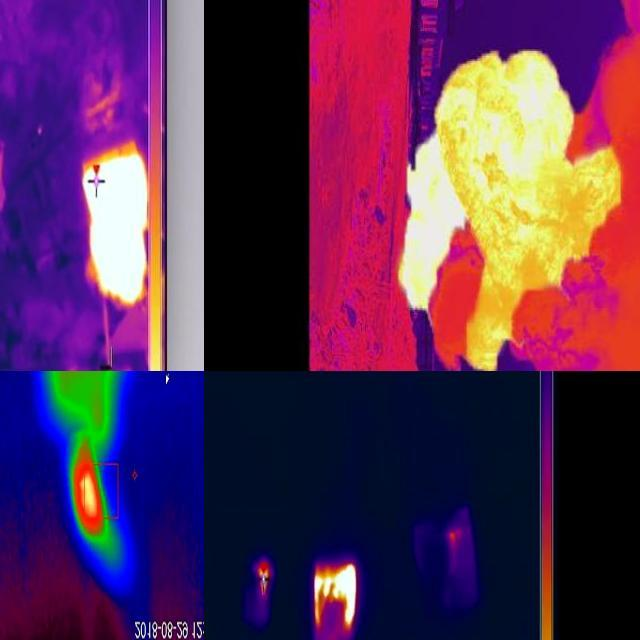fire: (393, 50, 628, 372), (82, 150, 148, 301), (71, 431, 113, 547), (311, 562, 358, 640), (250, 557, 276, 601)
